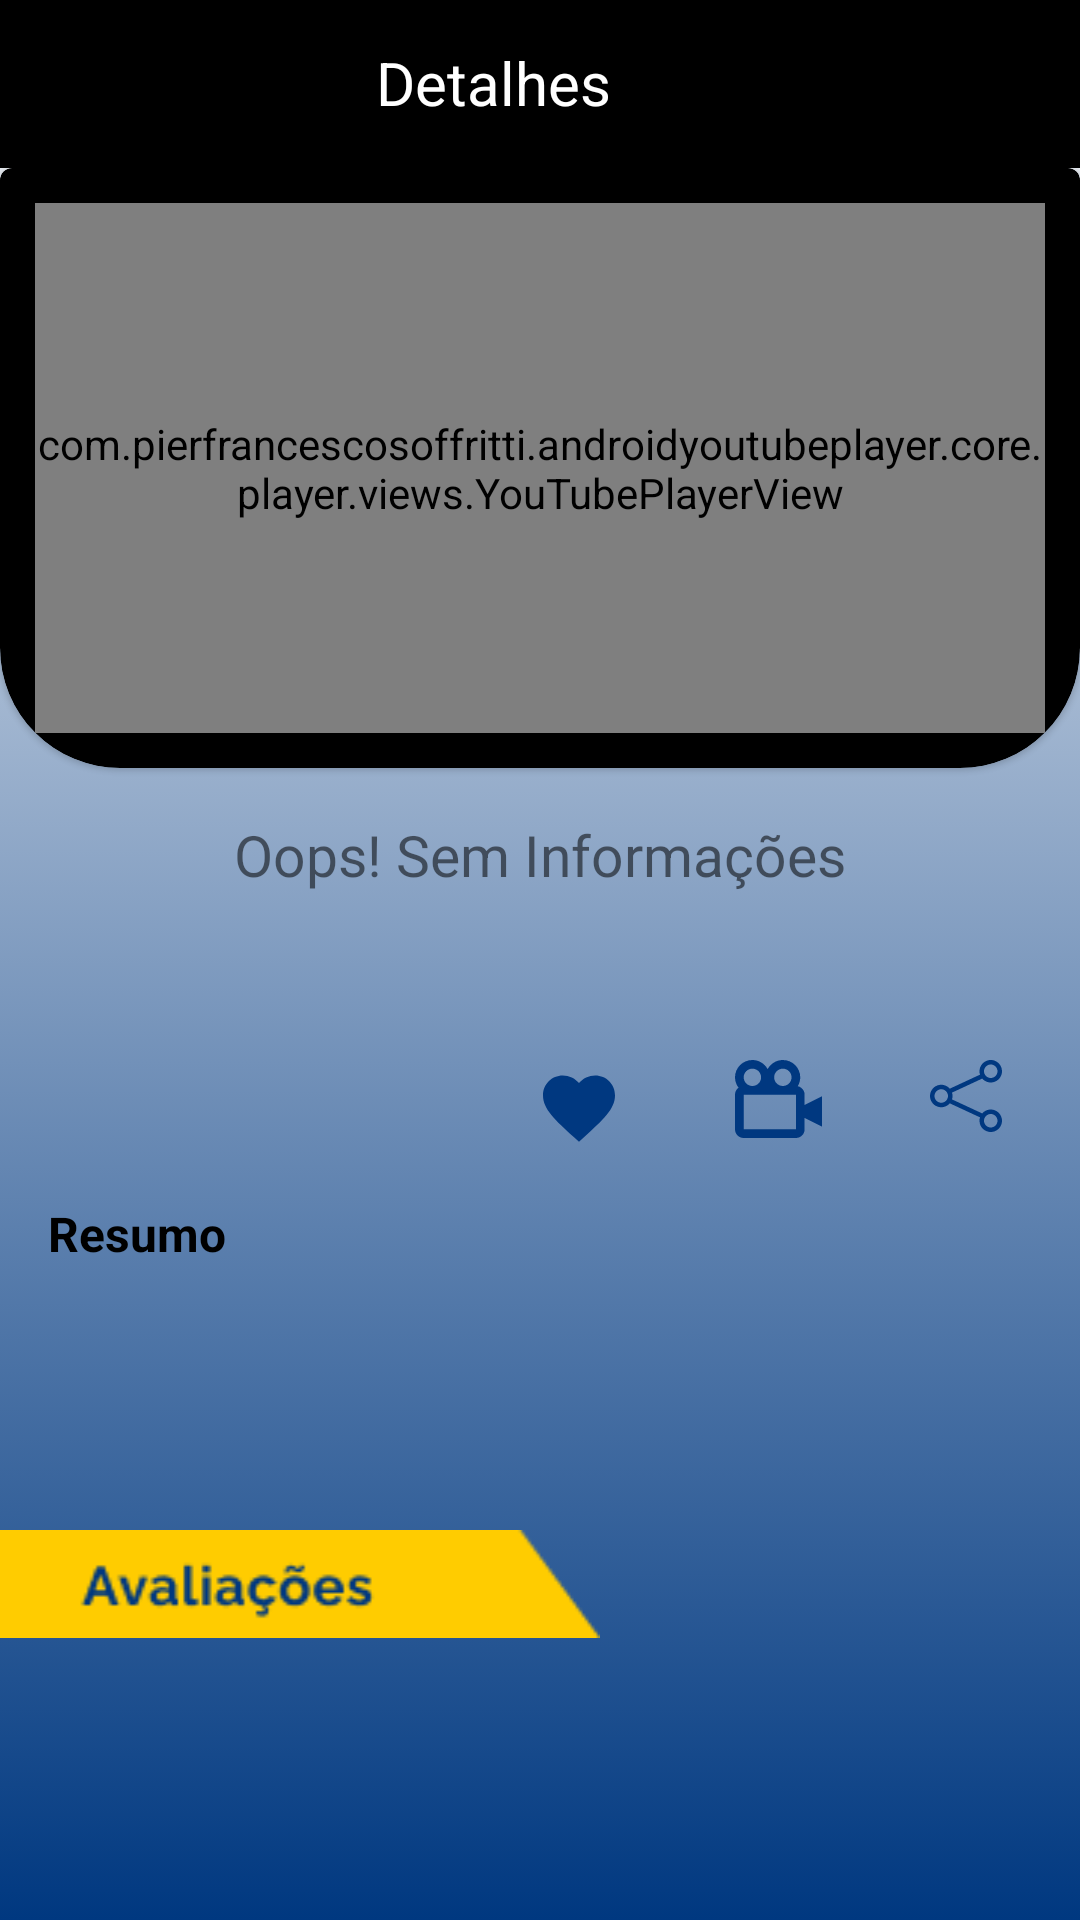

Named icons in this screenshot (1080px x 1920px) and their centers, (x=x, y=y):
bi share: (x=966, y=1096)
movie: (x=778, y=1114)
